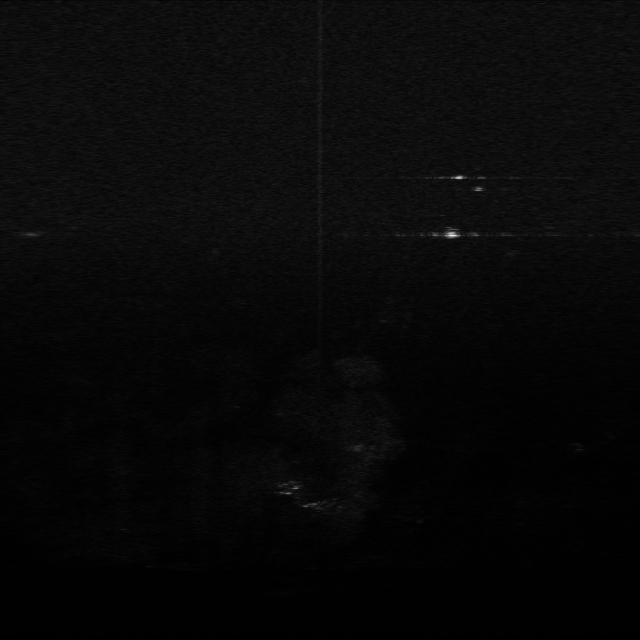rov: (440, 225, 466, 242)
